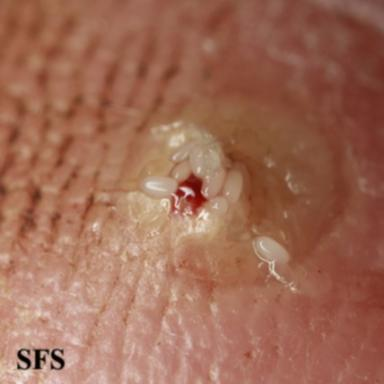Tungiasis: (140, 121, 250, 234), (253, 237, 299, 293)
